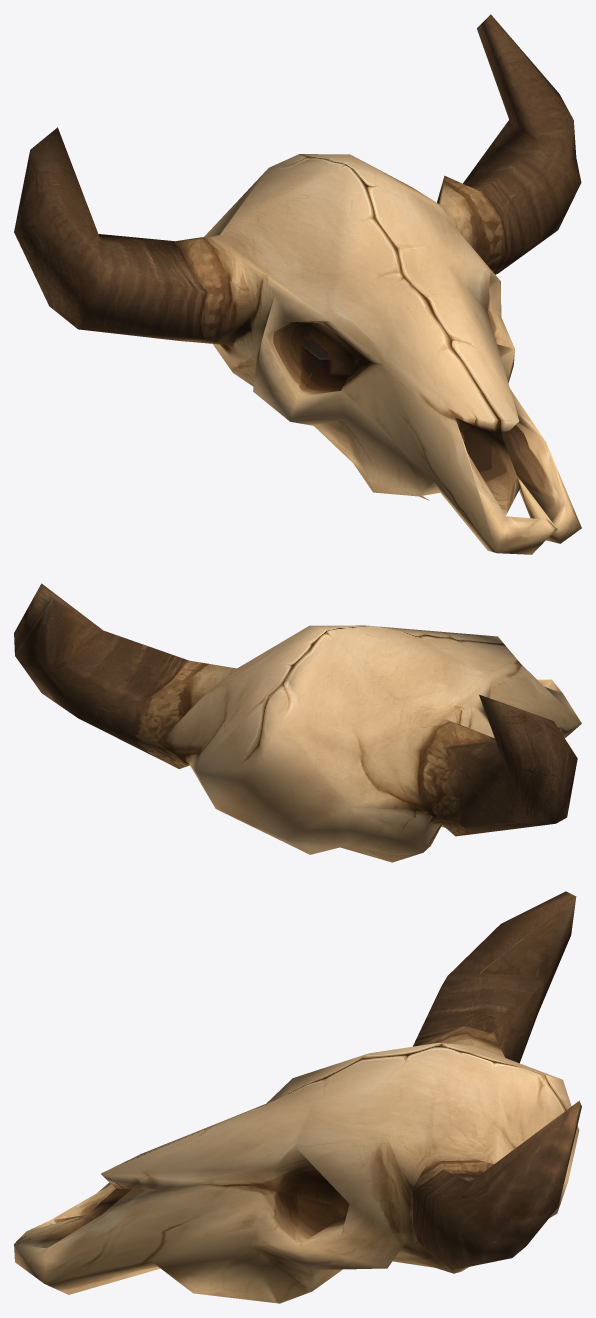
Rendered from Meshy_AI_Carved_Buffalo_Skull_0512182134_texture.fbx.
The picture shows the model from 3 angles, top to bottom: view 1: azimuth 30°, elevation 25°; view 2: azimuth 150°, elevation 25°; view 3: azimuth 270°, elevation 25°; orthographic projection.
Parts seen in each view (by area): view 1: Mesh_0; view 2: Mesh_0; view 3: Mesh_0.
Boxes of the visible parts, x1,y1,x2,y2 form: Mesh_0: [14, 14, 581, 554]; Mesh_0: [14, 583, 581, 862]; Mesh_0: [14, 891, 581, 1303].
Bounding box in the file's own units: 190 × 97.02 × 174.
1 material, 1 textured.
